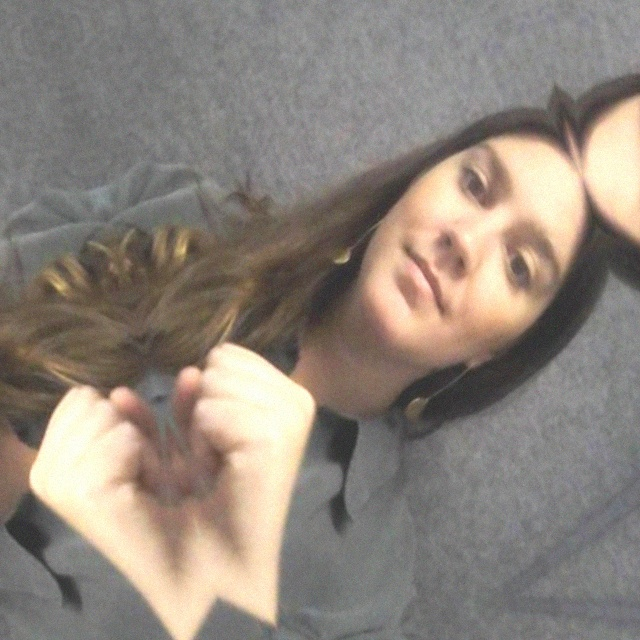Rock: (134, 265, 385, 599)
